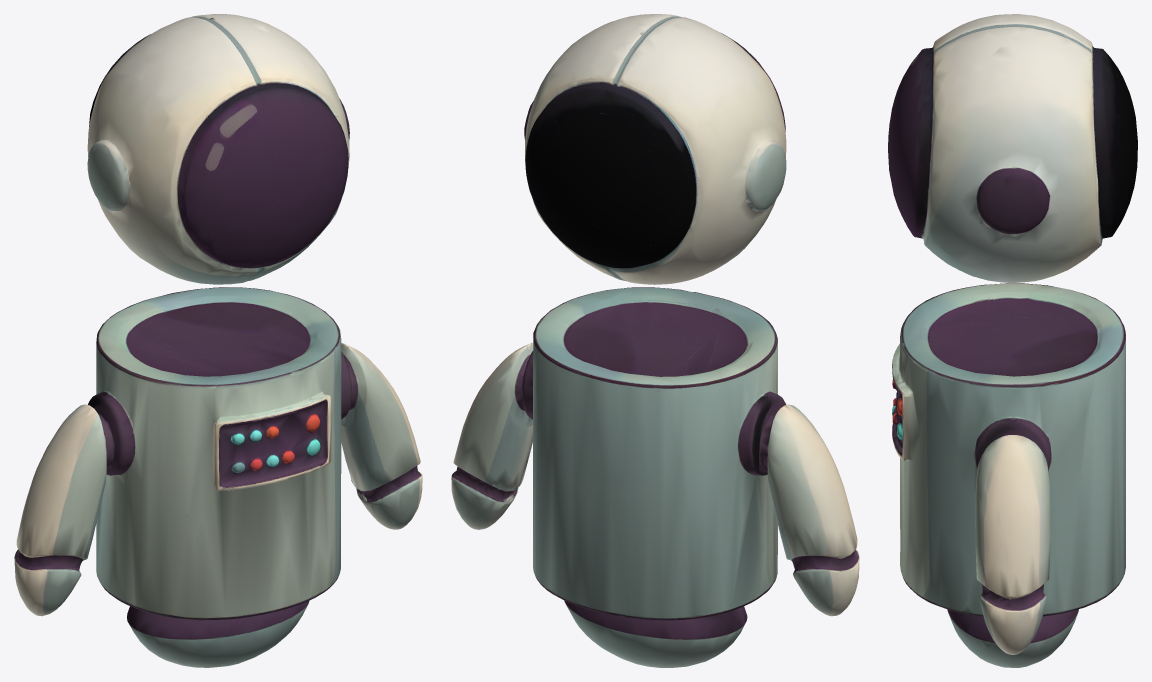
Rendered from robot-simple-raw.glb.
3 renders of one model, left to right at view 1: azimuth 30°, elevation 25°; view 2: azimuth 150°, elevation 25°; view 3: azimuth 270°, elevation 25°, orthographic.
Parts seen in each view (by area): view 1: Mesh_0; view 2: Mesh_0; view 3: Mesh_0.
Part boxes in pixels (box(x1,y1,x2,y2)): Mesh_0: box(14, 14, 422, 667); Mesh_0: box(451, 14, 859, 667); Mesh_0: box(888, 14, 1137, 667).
Bounding box in the file's own units: 2.63 × 4 × 1.43.
Materials: 1 (1 with a texture image).
